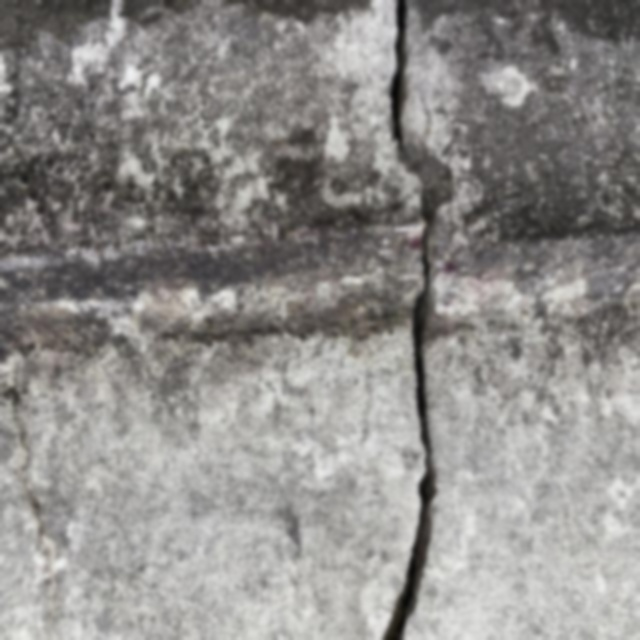SurfaceCrack: (319, 1, 497, 640)
